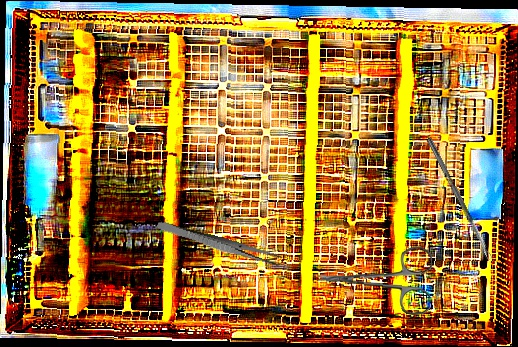Dressing Forceps: (155, 219, 283, 268)
Iris Scissors: (315, 241, 433, 316)
Surgical Spoon: (425, 137, 493, 261)
